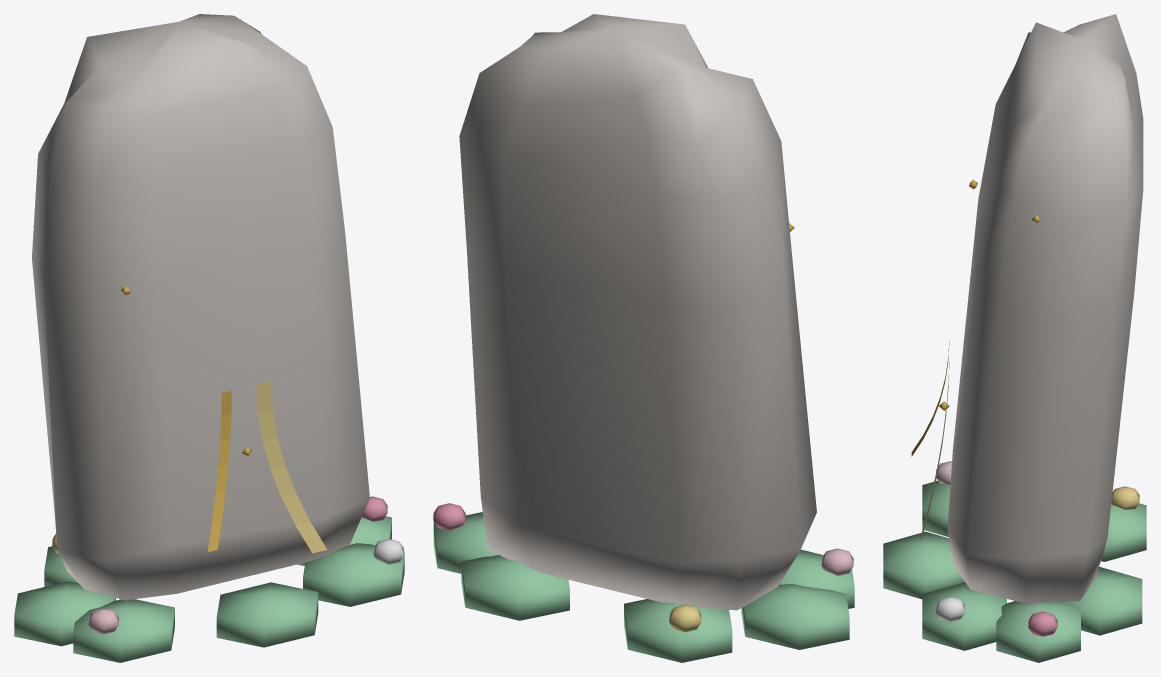
File: rite_standing_stone_d.gltf
The picture shows the model from 3 angles, left to right: view 1: azimuth 30°, elevation 25°; view 2: azimuth 150°, elevation 25°; view 3: azimuth 270°, elevation 25°; orthographic projection. The views are drawn at different scales.
Parts seen in each view (by area): view 1: rite_standing_stone_d; view 2: rite_standing_stone_d; view 3: rite_standing_stone_d.
Boxes of the visible parts, x1,y1,x2,y2 form: rite_standing_stone_d: (14,14,404,662); rite_standing_stone_d: (433,14,854,662); rite_standing_stone_d: (883,14,1146,662).
Size of what is drawn, in the model's own units: 2.29 by 3.18 by 1.4.
